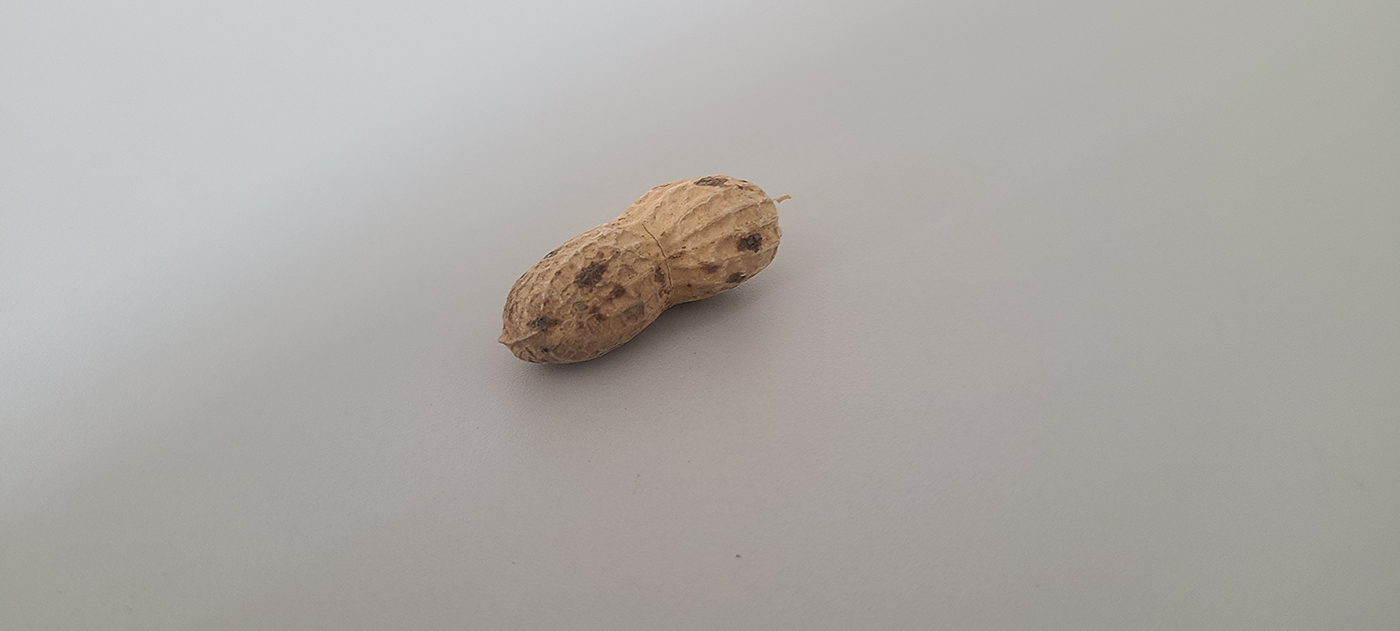h: (499, 172, 782, 366)
